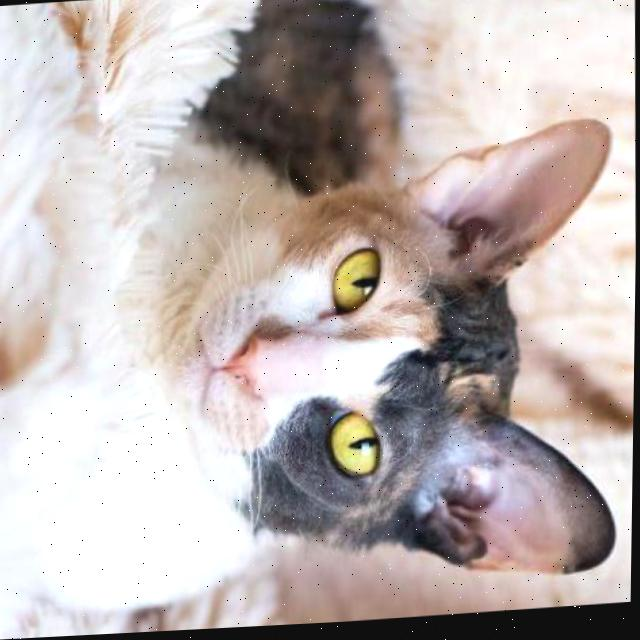Cornish Rex: (0, 0, 637, 632)
